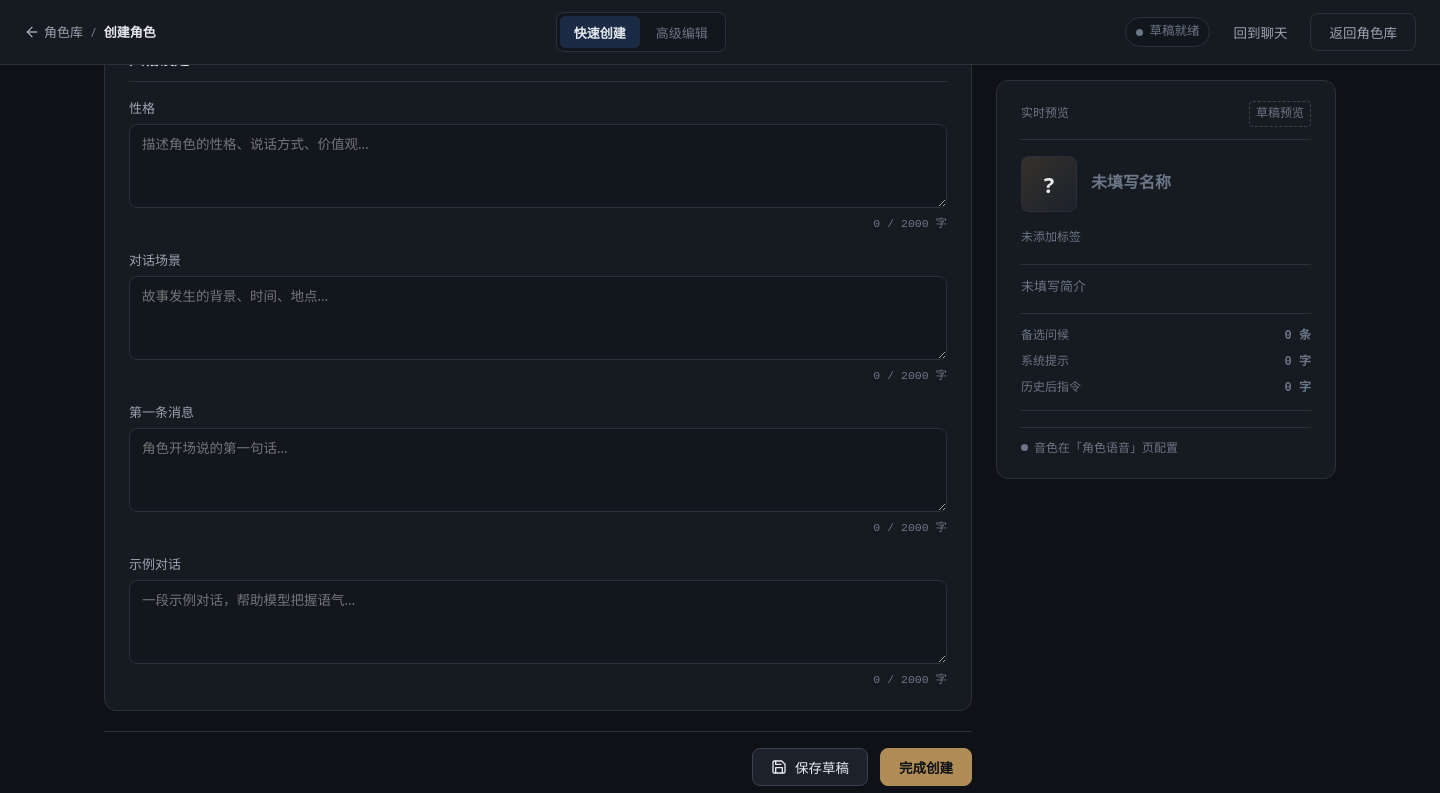
Scenario: CharacterCreatePage › 名称必填 › 空名称点击完成创建时不发请求，名称字段标红并提示
(page scrolled)
Click the button with test id "btn-submit" at coordinates (926, 766), box [880,748,972,786]
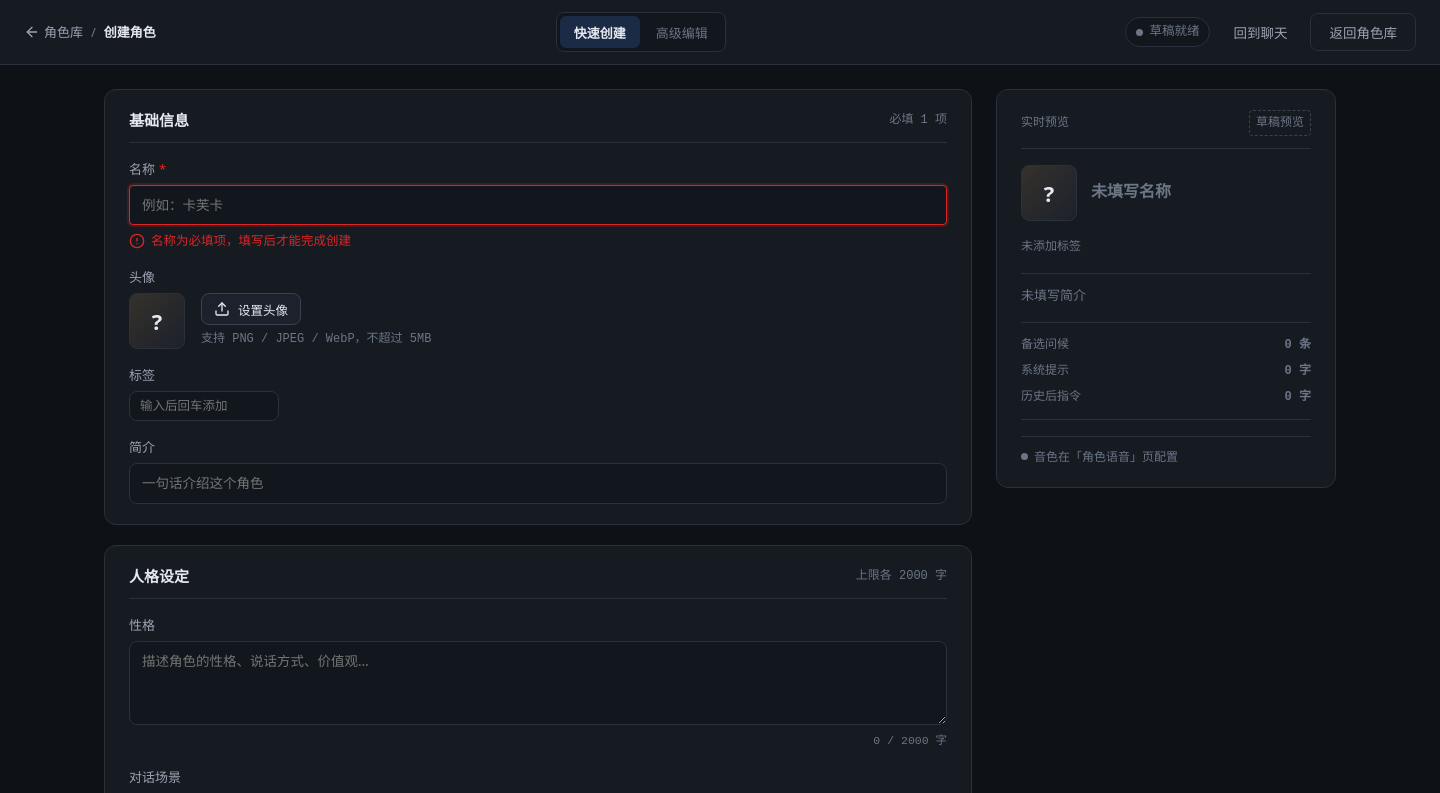
Check: the text "名称为必填项，填写后才能完成创建" is shown, box [129,232,351,249]
